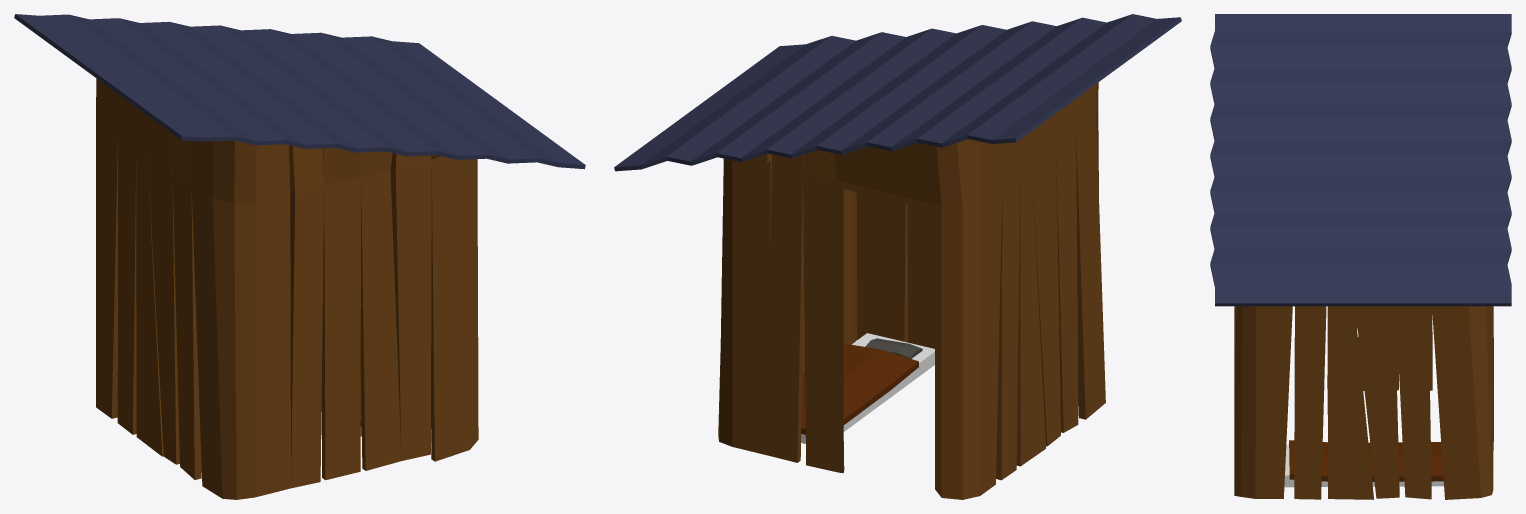
The model's file is PlayeHouse_0.fbx.
The picture shows the model from 3 angles, left to right: view 1: azimuth 30°, elevation 25°; view 2: azimuth 150°, elevation 25°; view 3: azimuth 270°, elevation 25°; orthographic projection. The views are drawn at different scales.
Visible parts, largest first — view 1: Shack; view 2: Shack, Bed; view 3: Shack, Bed.
Boxes of the visible parts, bbox=[...] form: Shack: bbox=[14, 14, 585, 499]; Shack: bbox=[614, 14, 1181, 499]; Bed: bbox=[801, 333, 934, 443]; Shack: bbox=[1210, 14, 1511, 499]; Bed: bbox=[1284, 440, 1443, 487].
Bounding box in the file's own units: 1062 × 998 × 768.
